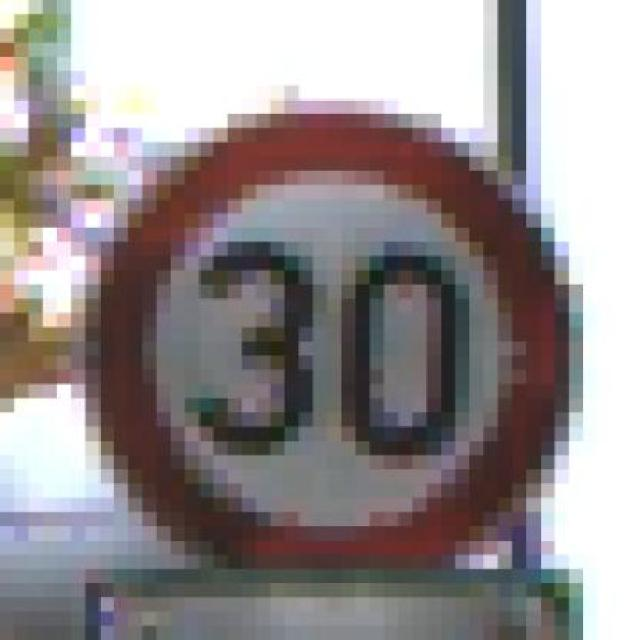Speed Limit 30 KMPh: (56, 71, 598, 626)
